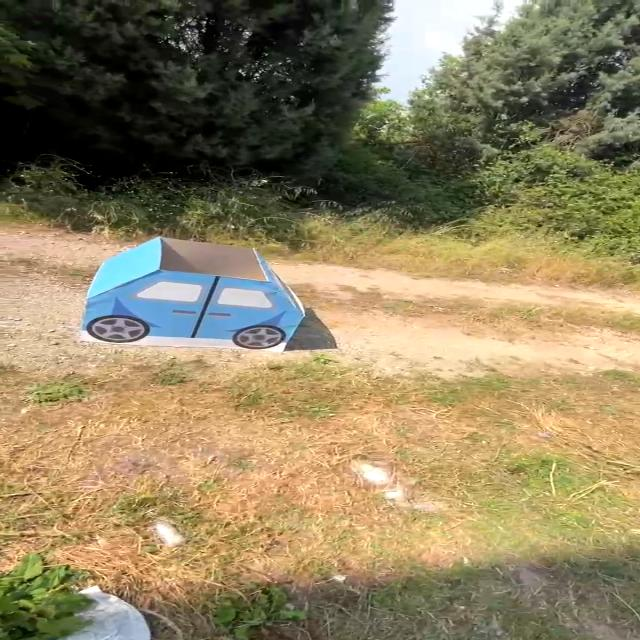blue_car: (50, 231, 330, 365)
